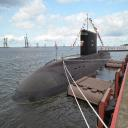submarine: (14, 28, 115, 104)
